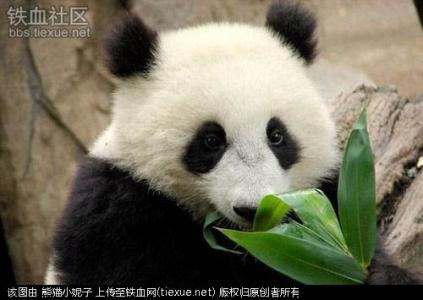panda: (38, 12, 350, 294)
